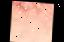plaque psoriasis: (11, 1, 53, 17)
